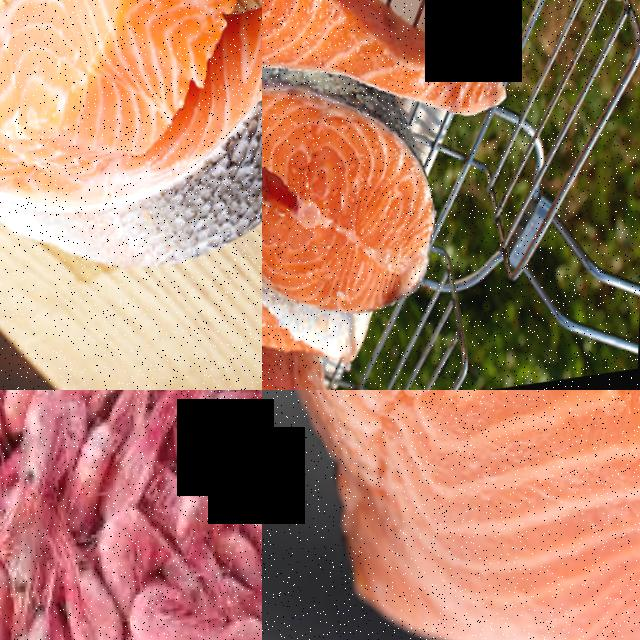salmon: (317, 390, 640, 640), (262, 89, 447, 325), (3, 0, 262, 158), (172, 4, 262, 240), (0, 15, 79, 220)
shrimp: (3, 390, 97, 498), (92, 508, 162, 595), (57, 562, 131, 640), (122, 578, 197, 640), (0, 599, 80, 640), (188, 613, 262, 640)
